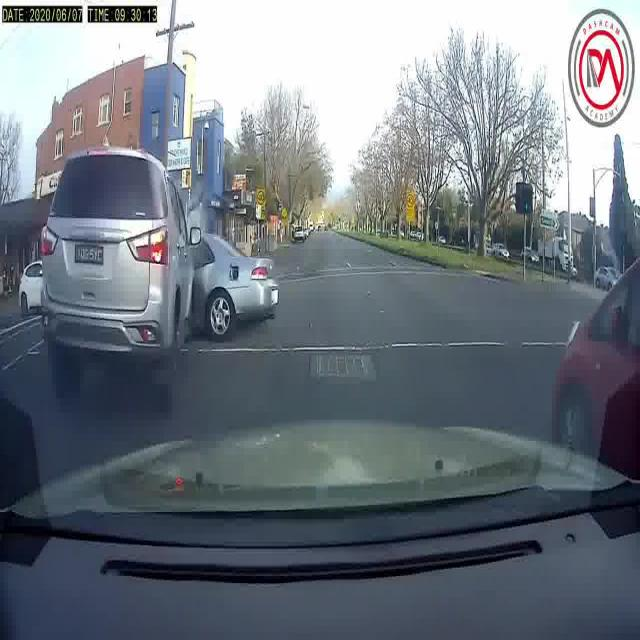Accident: (49, 93, 288, 424)
